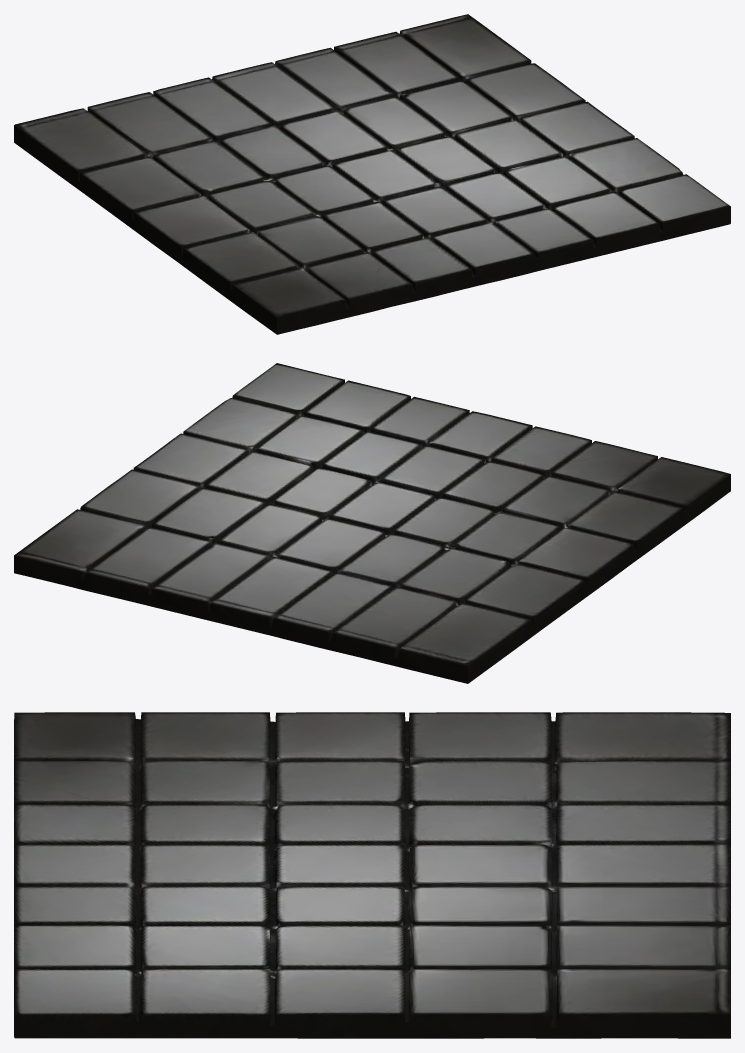
File: m2LaserFloorTile.glb
The picture shows the model from 3 angles, top to bottom: view 1: azimuth 30°, elevation 25°; view 2: azimuth 150°, elevation 25°; view 3: azimuth 270°, elevation 25°; orthographic projection. The views are drawn at different scales.
Visible parts, largest first — view 1: model; view 2: model; view 3: model.
Boxes of the visible parts, x1,y1,x2,y2 form: model: (14, 14, 730, 334); model: (14, 363, 730, 683); model: (14, 712, 730, 1038).
Bounding box in the file's own units: 1.89 × 0.0714 × 1.89.
1 material, 1 textured.
